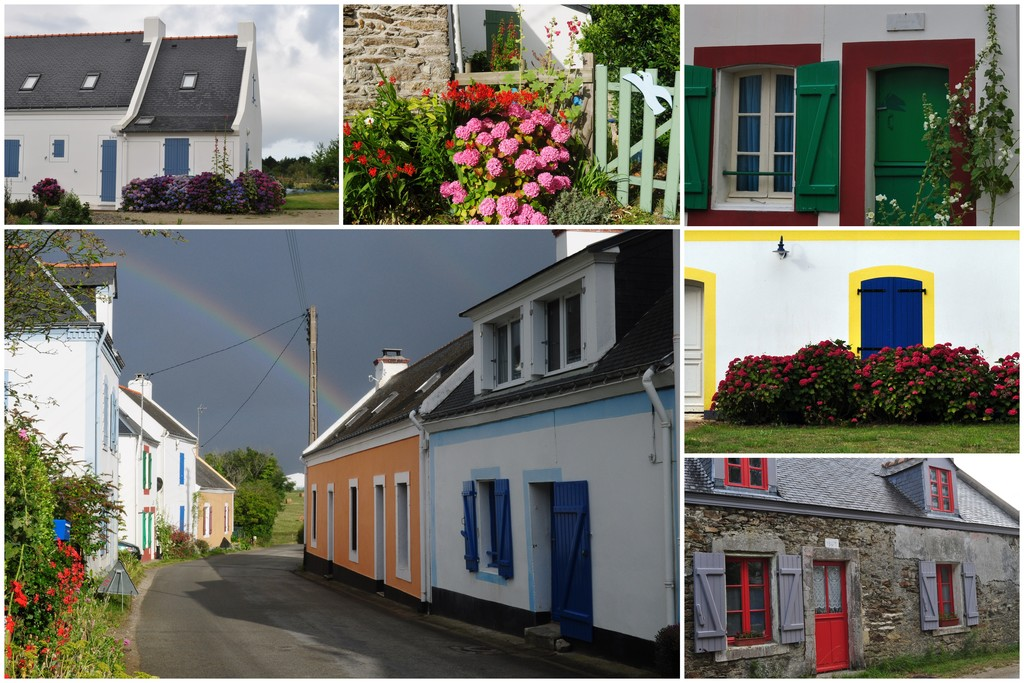door: (876, 83, 951, 231), (550, 482, 594, 637), (819, 570, 845, 667), (166, 138, 190, 181), (105, 141, 120, 206)
handle: (877, 156, 950, 175)
